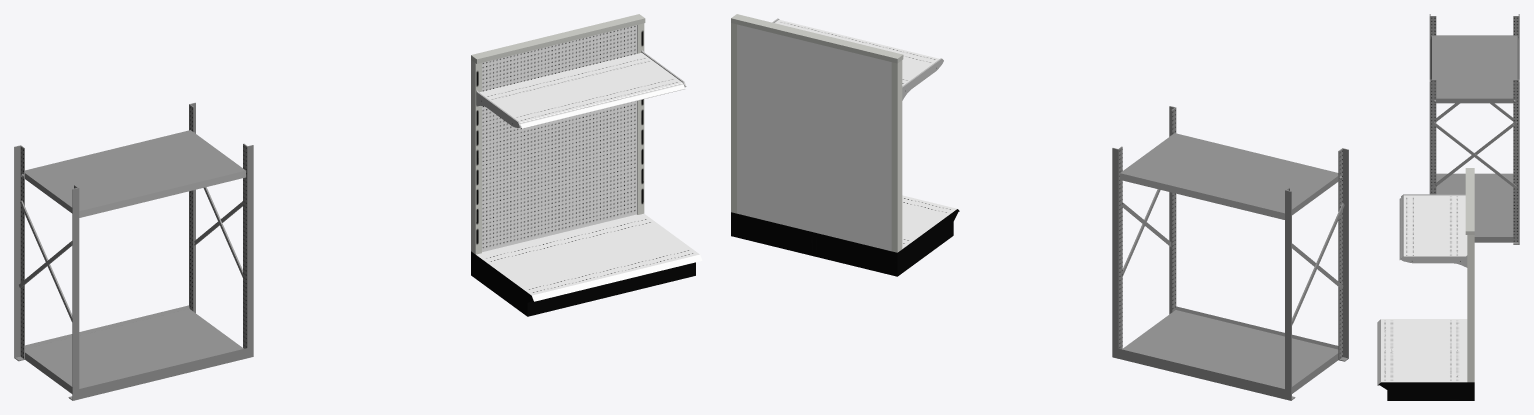
The model's file is shelving.fbx.
3 views of the same model, side by side, from view 1: azimuth 30°, elevation 25°; view 2: azimuth 150°, elevation 25°; view 3: azimuth 270°, elevation 25° (orthographic). The views are drawn at different scales.
Visible parts, largest first — view 1: gondola shelf base, warehouse shelf base, warehouse shelving, gondola shelving; view 2: gondola shelf base, warehouse shelf base, warehouse shelving, gondola shelving; view 3: gondola shelf base, warehouse shelf base, warehouse shelving, gondola shelving.
Boxes of the visible parts, x1=… form: gondola shelf base: x1=471, y1=14, x2=702, y2=316; warehouse shelf base: x1=14, y1=102, x2=253, y2=400; warehouse shelving: x1=21, y1=130, x2=245, y2=217; gondola shelving: x1=476, y1=50, x2=686, y2=128; gondola shelf base: x1=731, y1=14, x2=959, y2=276; warehouse shelf base: x1=1112, y1=106, x2=1348, y2=400; warehouse shelving: x1=1120, y1=133, x2=1342, y2=219; gondola shelving: x1=772, y1=18, x2=943, y2=100; gondola shelf base: x1=1377, y1=168, x2=1474, y2=400; warehouse shelf base: x1=1429, y1=14, x2=1519, y2=244; warehouse shelving: x1=1430, y1=35, x2=1518, y2=103; gondola shelving: x1=1399, y1=194, x2=1467, y2=267.
Size of the model in its own units: 708 by 250 by 190.
